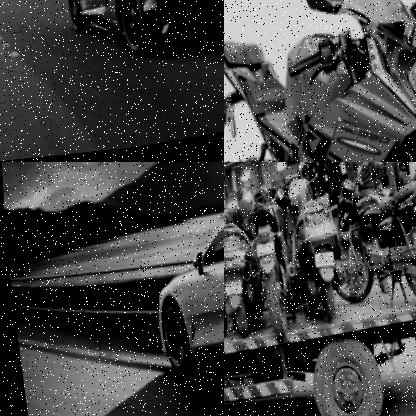bike: (224, 0, 416, 162), (332, 175, 416, 312), (279, 178, 349, 326), (241, 196, 296, 344), (224, 196, 255, 347)
car: (141, 192, 224, 394), (54, 0, 224, 64)
